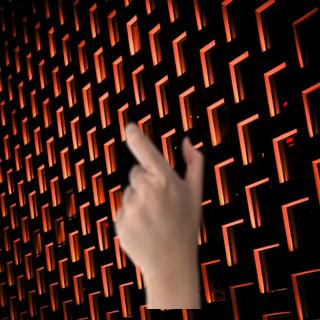Irritated: (105, 113, 210, 295)
